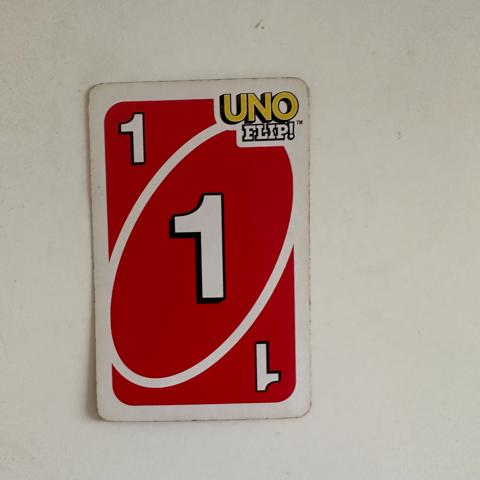7_red: (163, 185, 238, 311), (110, 106, 162, 172), (241, 331, 289, 391)
